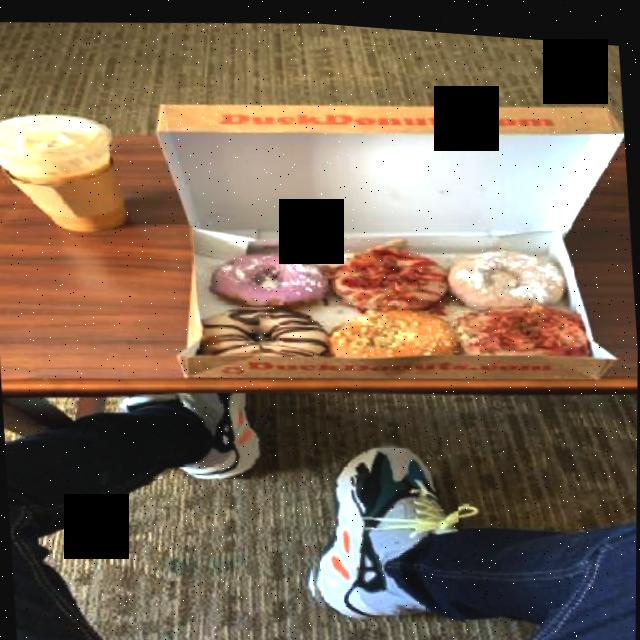shoe: (296, 425, 467, 626), (106, 381, 271, 486)
